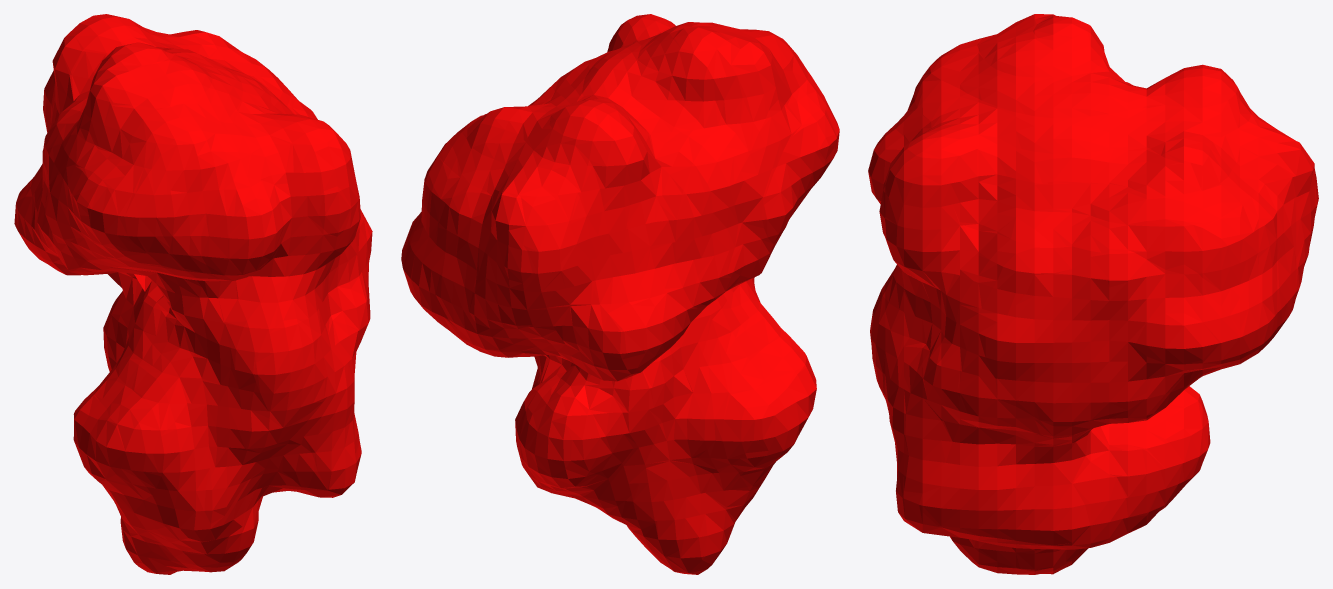
The model's file is xylB_coarse.dae.
3 views of the same model, side by side, from view 1: azimuth 30°, elevation 25°; view 2: azimuth 150°, elevation 25°; view 3: azimuth 270°, elevation 25° (orthographic). The views are drawn at different scales.
Parts seen in each view (by area): view 1: xylB; view 2: xylB; view 3: xylB.
Boxes of the visible parts, x1=… form: xylB: x1=14, y1=14, x2=372, y2=574; xylB: x1=401, y1=14, x2=839, y2=574; xylB: x1=868, y1=14, x2=1318, y2=574.
Bounding box in the file's own units: 50.02 × 80.4 × 60.57.
